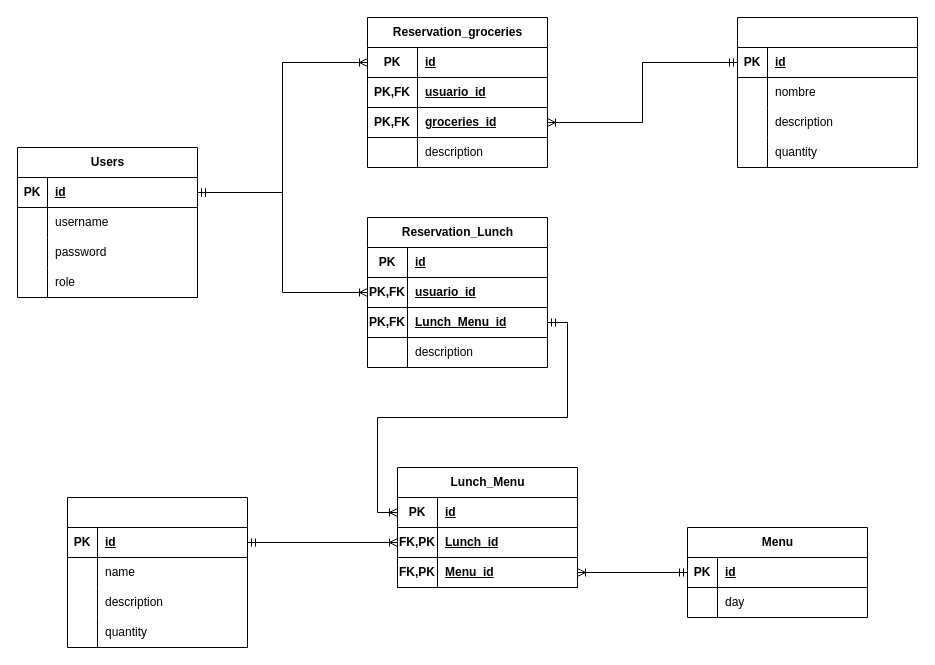
Image size: 935x665. Some labels were removed from this diagram. Here are the shapes that lost their labels. From the top down, the box of each, then its label:
(736, 16, 918, 168): Groceries
(66, 496, 248, 648): Lunch
